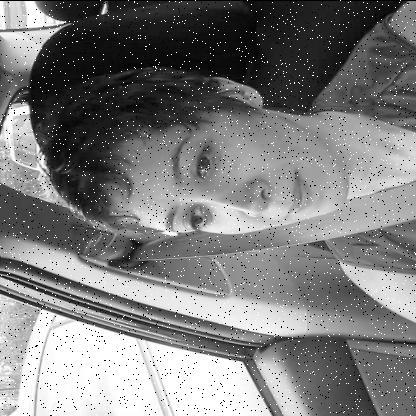seatbelt: (28, 57, 416, 252)
